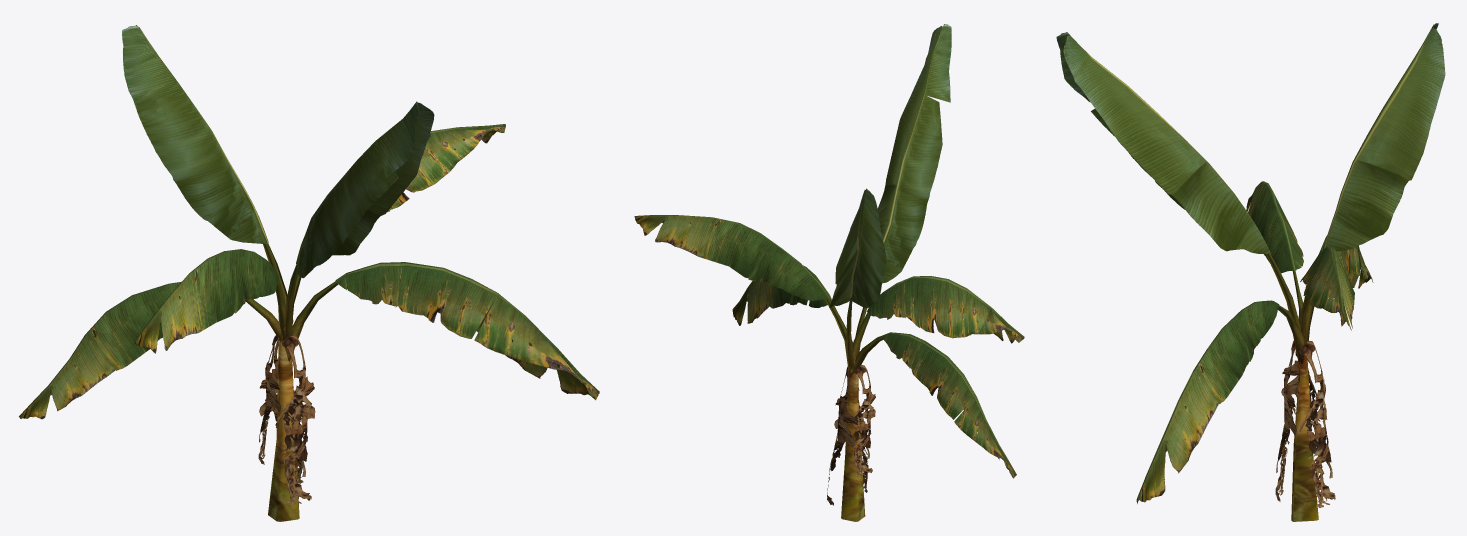
The model's file is Banana Small.FBX.
The picture shows the model from 3 angles, left to right: view 1: azimuth 30°, elevation 25°; view 2: azimuth 150°, elevation 25°; view 3: azimuth 270°, elevation 25°; orthographic projection. The views are drawn at different scales.
Parts seen in each view (by area): view 1: Banana Small; view 2: Banana Small; view 3: Banana Small.
Part boxes in pixels (left/top/right/bottom): Banana Small: left=19, top=25, right=599, bottom=521; Banana Small: left=634, top=24, right=1024, bottom=521; Banana Small: left=1056, top=23, right=1445, bottom=521.
Bounding box in the file's own units: 20.91 × 21.31 × 15.42.
